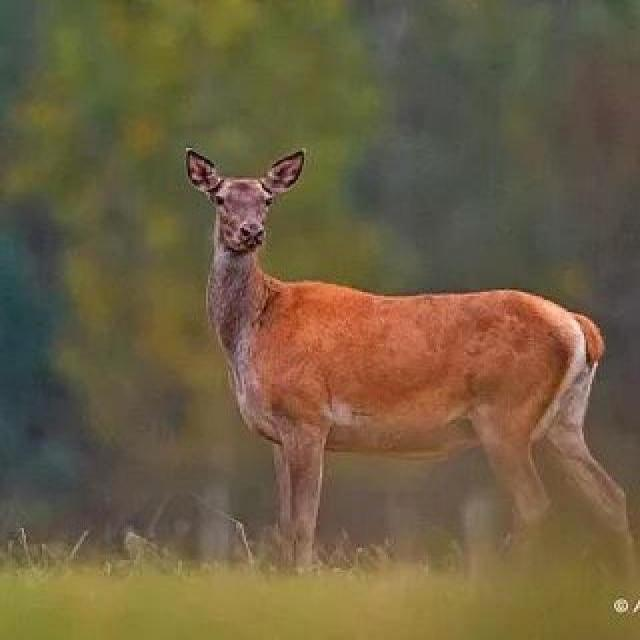deer: (115, 113, 640, 575)
